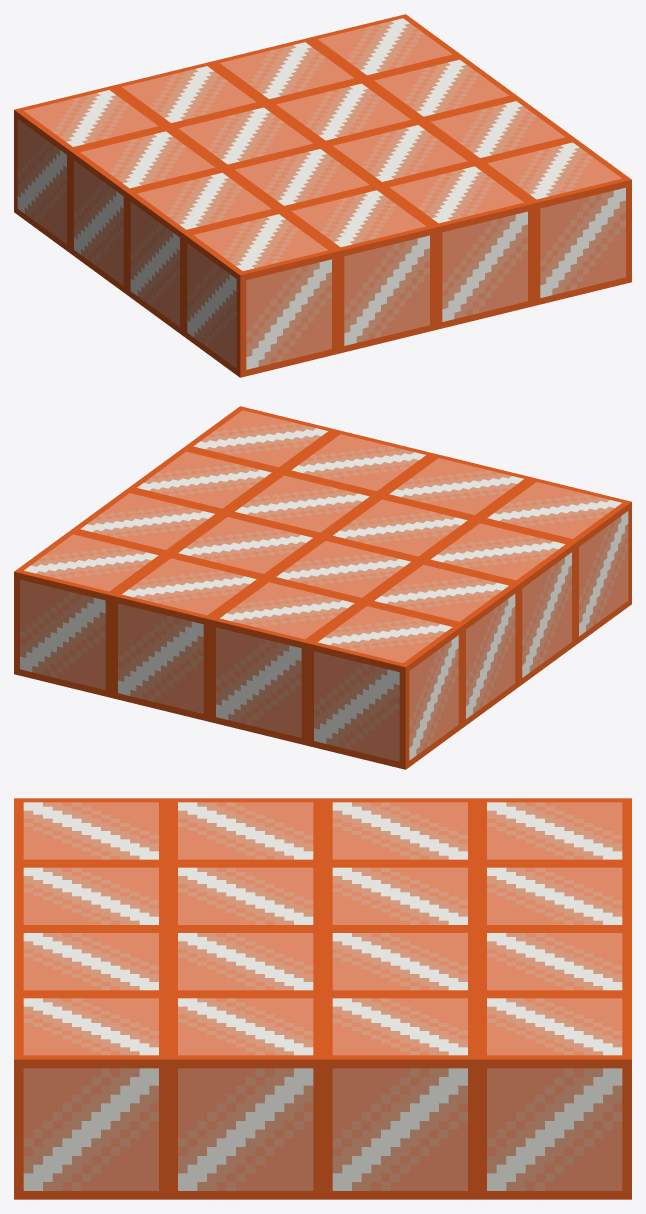
File: alter_tiles_orange4x4.fbx
3 renders of one model, top to bottom at view 1: azimuth 30°, elevation 25°; view 2: azimuth 150°, elevation 25°; view 3: azimuth 270°, elevation 25°, orthographic. The views are drawn at different scales.
Parts seen in each view (by area): view 1: alter_tiles_orange4x4; view 2: alter_tiles_orange4x4; view 3: alter_tiles_orange4x4.
Part boxes in pixels (x1,y1,x2,y2): alter_tiles_orange4x4: (14,14,631,377); alter_tiles_orange4x4: (14,406,631,769); alter_tiles_orange4x4: (14,798,631,1199).
Size of the model in its own units: 6.4 by 1.6 by 6.4.
1 material, 1 textured.
